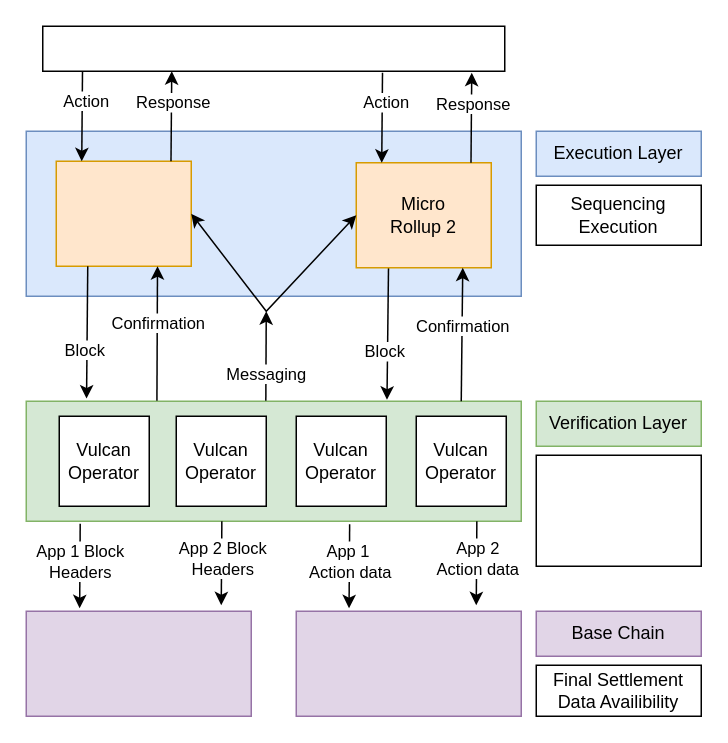
Image size: 728x743. Some labels were removed from this diagram. Each missing label, with the box of its shape:
Data Availibility: (295, 610, 521, 716)
Layer-1: (25, 610, 251, 716)
Micro Rollup 1: (55, 160, 191, 266)
Users: (41, 25, 505, 71)
Verification/Audit Proof generation Interoperability Soft Settlement: (535, 454, 701, 566)
